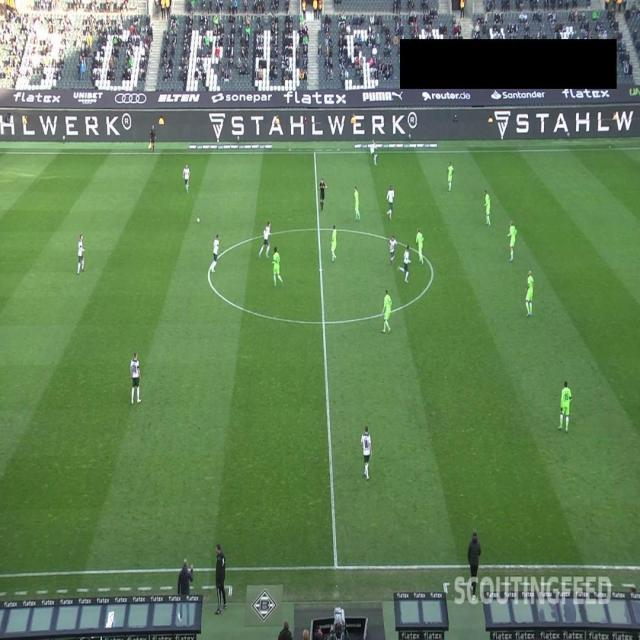ball: (196, 217, 200, 224)
player: (360, 424, 373, 481), (558, 380, 572, 432), (130, 351, 142, 406), (381, 289, 393, 335), (259, 221, 272, 260), (272, 246, 284, 287), (524, 269, 534, 318), (507, 220, 517, 262), (77, 234, 86, 275), (403, 244, 412, 283), (211, 234, 220, 273), (416, 227, 425, 266), (483, 190, 492, 228), (386, 185, 395, 221), (389, 235, 398, 267), (331, 224, 338, 262), (354, 186, 361, 222), (183, 163, 191, 194), (447, 161, 455, 192), (370, 139, 378, 167)
referee: (319, 177, 328, 212), (148, 124, 157, 152)
